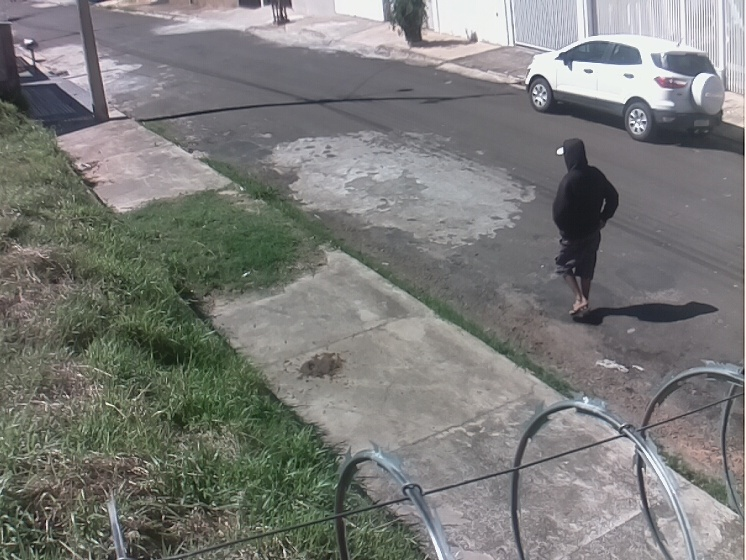person: (551, 138, 619, 323)
